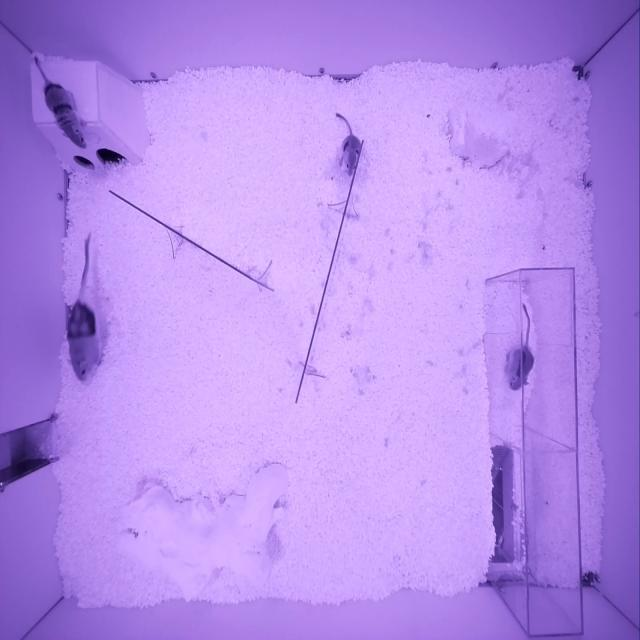adult_back: (66, 299, 99, 382)
pup_h_stripe: (44, 82, 86, 149)
pup_spotted: (340, 135, 361, 176)
pup_v_stripe: (506, 346, 534, 390)
